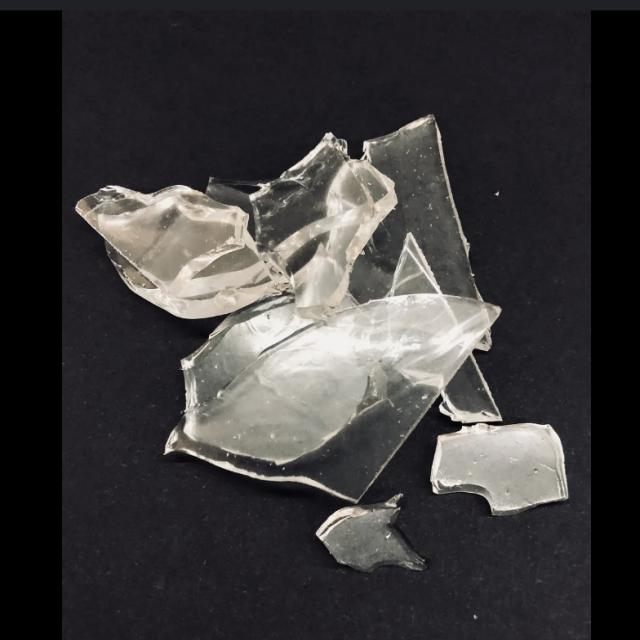PecahanKaca: (73, 113, 568, 572), (429, 421, 569, 516), (314, 491, 429, 574)
